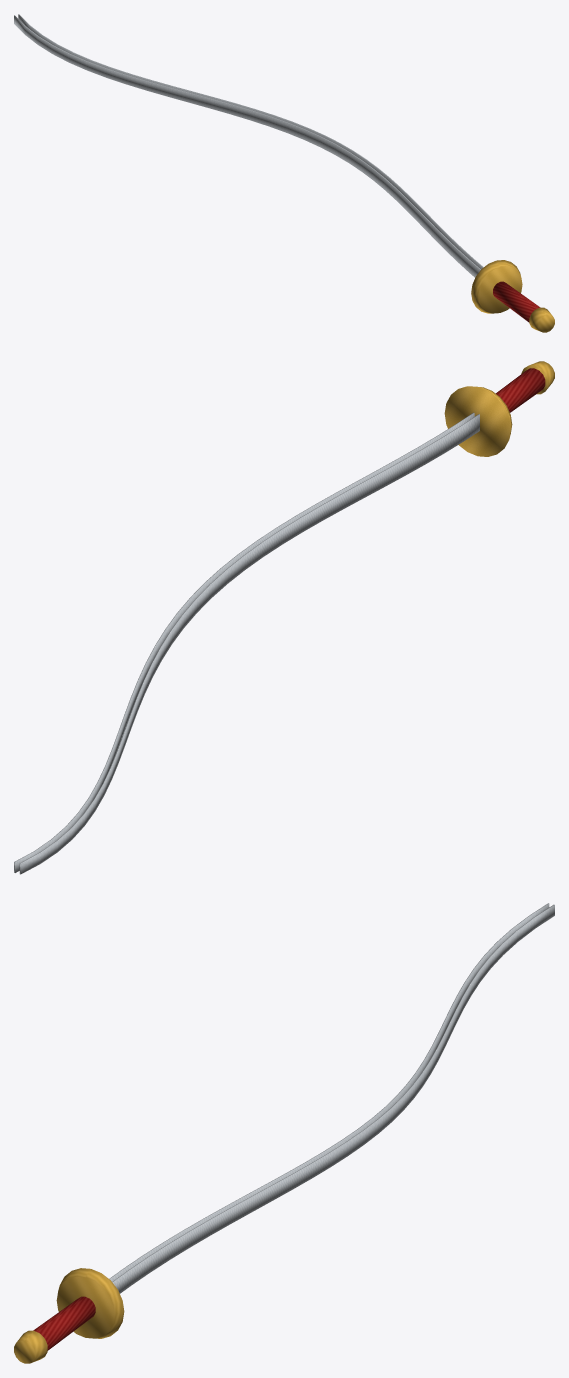
Rendered from kalari_urumi.glb.
3 renders of one model, top to bottom at view 1: azimuth 30°, elevation 25°; view 2: azimuth 150°, elevation 25°; view 3: azimuth 330°, elevation 25°, orthographic. The views are drawn at different scales.
Parts seen in each view (by area): view 1: Kalari_Urumi_WhipSword; view 2: Kalari_Urumi_WhipSword; view 3: Kalari_Urumi_WhipSword.
Boxes of the visible parts, x1=… form: Kalari_Urumi_WhipSword: x1=14, y1=14, x2=554, y2=332; Kalari_Urumi_WhipSword: x1=14, y1=361, x2=554, y2=874; Kalari_Urumi_WhipSword: x1=14, y1=903, x2=554, y2=1363.
Size of the model in its own units: 0.1835 by 0.096 by 1.54.
Materials: 3 (3 with a texture image).
